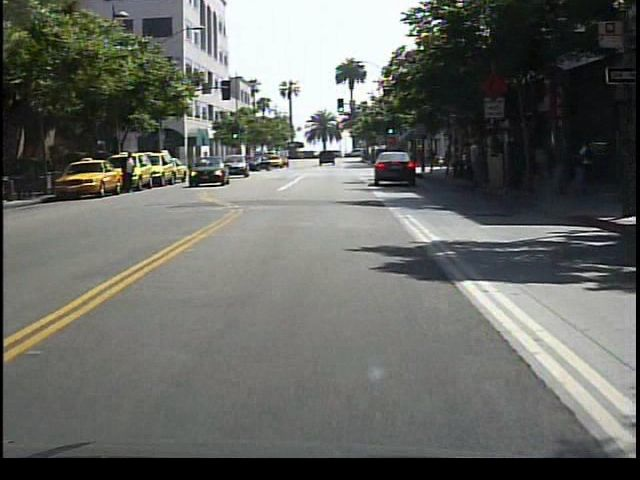person: (467, 133, 490, 196), (124, 147, 141, 197)
